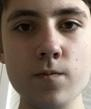without_mask: (2, 1, 91, 109)
